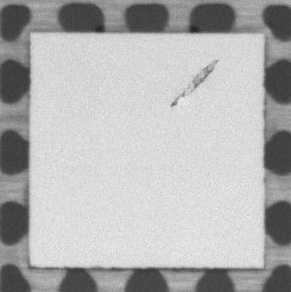DIE_INK: (168, 57, 218, 109)
